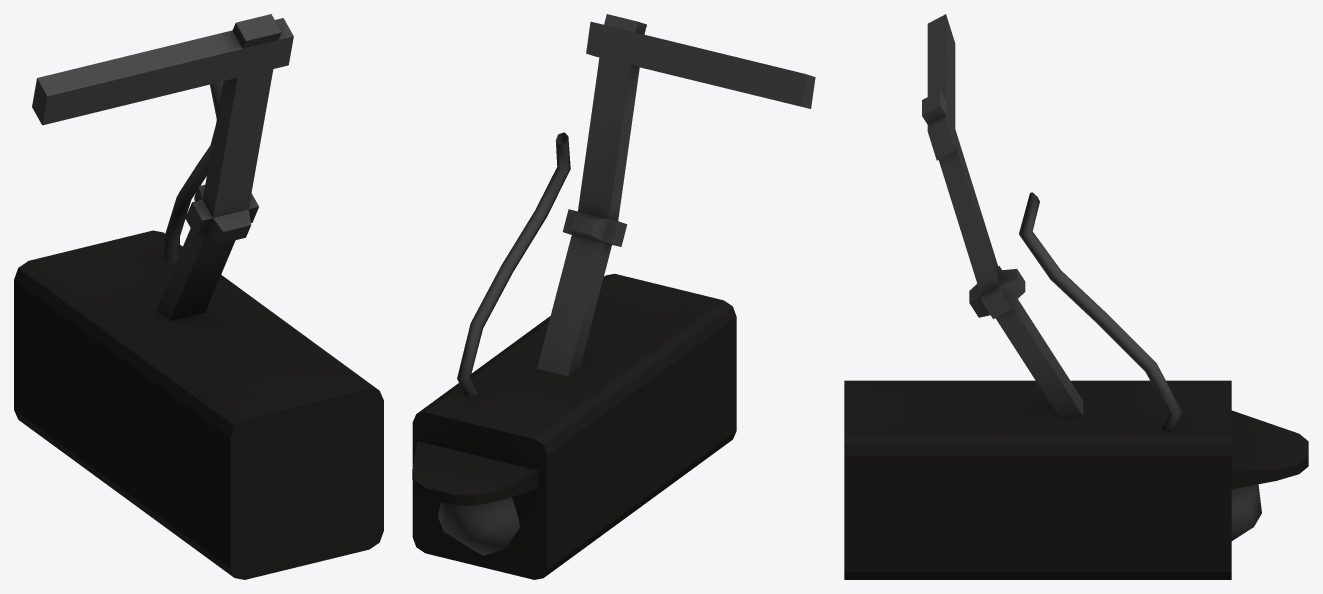
File: camera.fbx
3 renders of one model, left to right at view 1: azimuth 30°, elevation 25°; view 2: azimuth 150°, elevation 25°; view 3: azimuth 270°, elevation 25°, orthographic. The views are drawn at different scales.
Visible parts, largest first — view 1: Camera; view 2: Camera, glass; view 3: Camera, glass.
Part boxes in pixels (x1,y1,x2,y2): Camera: [14, 14, 383, 579]; Camera: [412, 14, 815, 579]; glass: [438, 497, 519, 555]; Camera: [844, 14, 1308, 579]; glass: [1231, 484, 1261, 540].
Size of the model in its own units: 80.84 by 135 by 125.
